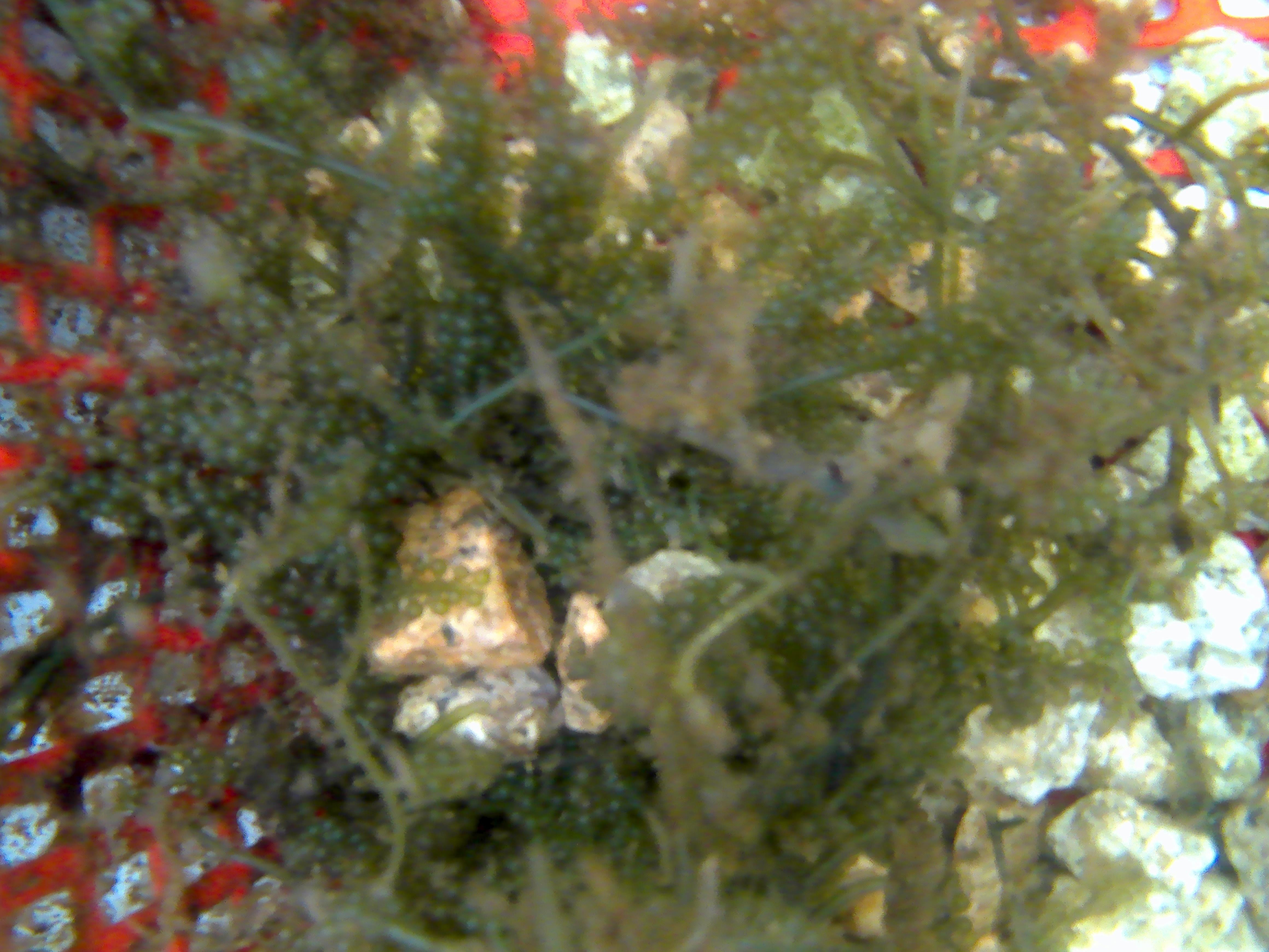Darkening: (207, 784, 227, 803), (63, 748, 78, 764), (60, 764, 74, 778)
Harvestable: (670, 608, 696, 634), (462, 107, 486, 131), (526, 259, 550, 283), (336, 374, 361, 397), (781, 60, 804, 83), (544, 213, 566, 236), (223, 443, 246, 465), (132, 0, 156, 21), (761, 540, 783, 562), (798, 817, 819, 840), (1134, 517, 1156, 538), (767, 296, 788, 318), (653, 183, 676, 203), (200, 433, 221, 454), (552, 161, 573, 182), (371, 531, 392, 552), (519, 239, 540, 260), (679, 587, 700, 608), (1147, 579, 1168, 600), (662, 518, 683, 539), (453, 86, 473, 107), (244, 429, 265, 449), (242, 456, 263, 476), (785, 534, 806, 554), (758, 65, 778, 86), (644, 164, 666, 183), (801, 36, 820, 58), (228, 414, 248, 434), (365, 486, 385, 506), (461, 130, 481, 150), (1159, 542, 1179, 562), (772, 37, 793, 56), (472, 181, 493, 200), (144, 468, 164, 487), (541, 182, 560, 202), (165, 458, 184, 478), (527, 224, 547, 243), (476, 333, 495, 353), (573, 766, 592, 786), (1113, 523, 1133, 542), (114, 9, 133, 29), (237, 203, 257, 222), (990, 229, 1010, 248), (191, 486, 211, 505), (825, 596, 846, 614), (820, 276, 839, 295), (276, 78, 295, 97), (316, 417, 335, 436), (141, 439, 160, 458), (759, 46, 778, 65), (1077, 497, 1097, 515), (407, 203, 425, 222), (158, 390, 176, 409), (434, 748, 453, 766), (917, 349, 937, 366), (325, 826, 345, 843), (442, 201, 460, 219), (996, 568, 1014, 586), (436, 330, 454, 348), (97, 500, 115, 518), (436, 309, 454, 327), (125, 372, 142, 391), (452, 351, 471, 368), (458, 335, 477, 352), (768, 222, 787, 239), (297, 801, 316, 818), (568, 786, 585, 805), (133, 397, 150, 415), (455, 314, 472, 332), (792, 94, 810, 111), (780, 314, 797, 332), (378, 458, 396, 475), (140, 419, 158, 436), (798, 590, 815, 608), (86, 472, 104, 489), (338, 417, 356, 434), (1232, 142, 1250, 159), (214, 486, 232, 503), (605, 291, 622, 309), (465, 913, 482, 931), (701, 576, 719, 593), (255, 293, 273, 310), (397, 187, 414, 204), (918, 321, 935, 338), (949, 352, 966, 369), (938, 330, 955, 347), (385, 480, 402, 497), (1116, 269, 1133, 286), (576, 812, 593, 829), (547, 530, 564, 547), (404, 456, 421, 473), (159, 422, 176, 439), (812, 258, 829, 275), (718, 142, 736, 158), (794, 619, 812, 635), (1066, 641, 1080, 661), (451, 159, 468, 175), (696, 115, 712, 132), (473, 568, 489, 585), (810, 575, 827, 591), (591, 805, 607, 822), (275, 109, 290, 127), (84, 447, 100, 463), (832, 326, 848, 342), (452, 367, 468, 383), (523, 815, 539, 831), (407, 603, 423, 619), (384, 441, 400, 457), (950, 657, 966, 673), (1251, 130, 1267, 146), (561, 536, 577, 552), (205, 506, 220, 523), (851, 601, 866, 618), (232, 314, 247, 331), (519, 794, 534, 811), (632, 507, 647, 524), (252, 69, 268, 84), (740, 70, 755, 86), (737, 99, 753, 114), (808, 634, 824, 649), (426, 203, 441, 219), (496, 784, 512, 799), (615, 281, 630, 297), (432, 559, 447, 575), (563, 551, 578, 567), (255, 319, 270, 335), (414, 189, 429, 204), (509, 810, 524, 825), (321, 817, 336, 832), (551, 554, 566, 569), (790, 604, 805, 619), (226, 514, 240, 530), (689, 146, 705, 160), (308, 493, 324, 507), (241, 54, 257, 68), (72, 481, 86, 496), (105, 437, 119, 452), (819, 332, 833, 347), (969, 623, 983, 637), (522, 776, 536, 790), (313, 846, 327, 860), (745, 127, 758, 142), (432, 602, 447, 615), (467, 592, 483, 604), (253, 179, 264, 196), (812, 67, 825, 81), (1043, 241, 1056, 255), (988, 638, 1001, 652), (975, 634, 988, 647), (608, 799, 621, 812)
